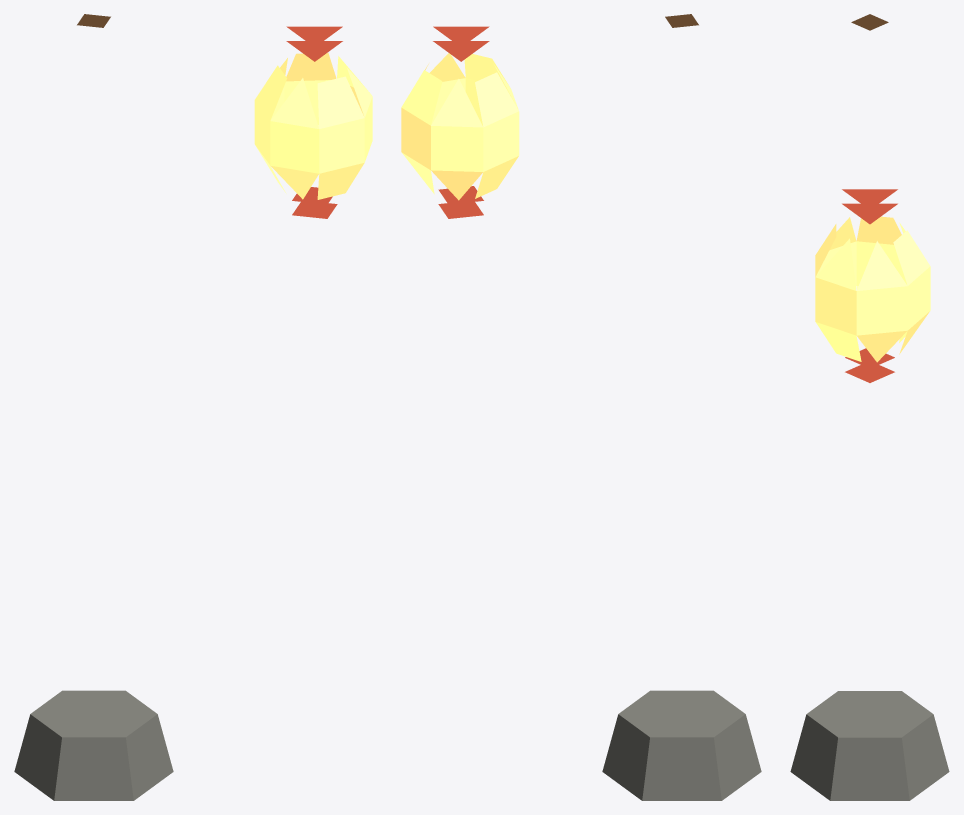
Rendered from night_lantern_pole_lod1.glb.
3 renders of one model, left to right at view 1: azimuth 30°, elevation 25°; view 2: azimuth 150°, elevation 25°; view 3: azimuth 270°, elevation 25°, orthographic.
Visible parts, largest first — view 1: night_lantern_pole_lod1; view 2: night_lantern_pole_lod1; view 3: night_lantern_pole_lod1.
Part boxes in pixels (x1,y1,x2,y2): night_lantern_pole_lod1: (14, 14, 372, 800); night_lantern_pole_lod1: (401, 14, 761, 800); night_lantern_pole_lod1: (790, 14, 949, 800).
Bounding box in the file's own units: 1.2 × 2.6 × 0.5.
